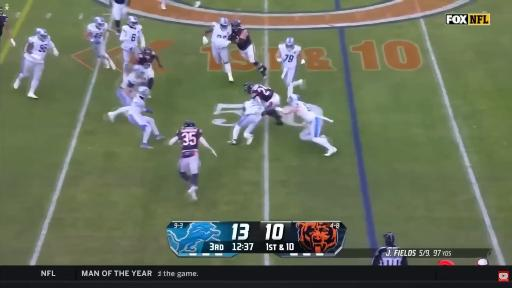Helmet: (36, 28, 48, 41), (219, 17, 229, 31), (138, 87, 150, 98), (132, 65, 145, 75), (127, 16, 138, 27), (95, 17, 105, 28), (287, 94, 299, 103), (285, 38, 294, 50), (244, 83, 254, 93), (231, 20, 241, 30), (141, 47, 152, 56), (183, 120, 195, 127)
Jersey: (176, 127, 202, 157), (24, 36, 54, 62), (120, 25, 142, 50), (291, 101, 316, 122), (279, 44, 301, 67), (211, 23, 232, 47), (121, 72, 146, 89), (251, 84, 274, 102), (128, 94, 146, 115), (87, 24, 107, 42), (243, 100, 264, 115), (137, 52, 155, 68), (237, 32, 252, 50), (0, 14, 8, 36), (113, 0, 126, 4)
Player: (169, 120, 216, 200), (14, 28, 58, 98), (287, 95, 337, 156), (128, 87, 164, 148), (108, 66, 146, 122), (230, 20, 267, 77), (203, 18, 233, 82), (276, 38, 305, 96), (244, 83, 283, 125), (228, 100, 263, 145), (85, 17, 115, 69), (120, 16, 145, 77), (135, 47, 163, 89), (0, 7, 15, 46), (112, 0, 129, 33), (161, 0, 166, 9)
